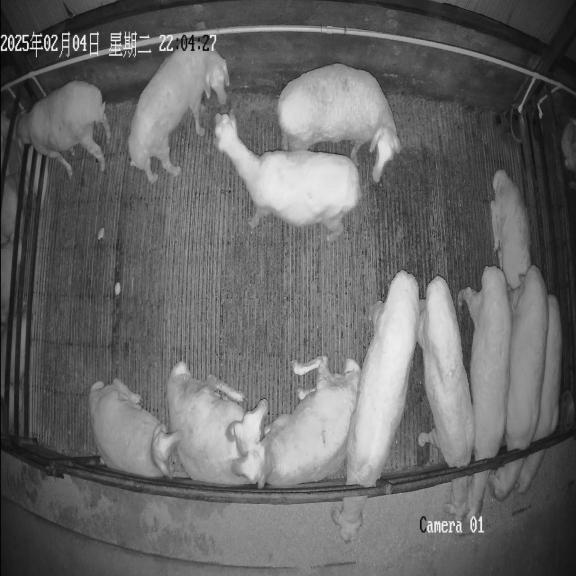drinking: (14, 81, 111, 177)
eating: (331, 270, 420, 542), (489, 266, 549, 500), (417, 276, 474, 520), (458, 266, 511, 516), (514, 295, 562, 493)
lying: (234, 356, 360, 488), (167, 361, 267, 484), (89, 379, 179, 477), (491, 170, 531, 288)
stand: (215, 111, 361, 238), (277, 63, 401, 181), (128, 43, 229, 183)
